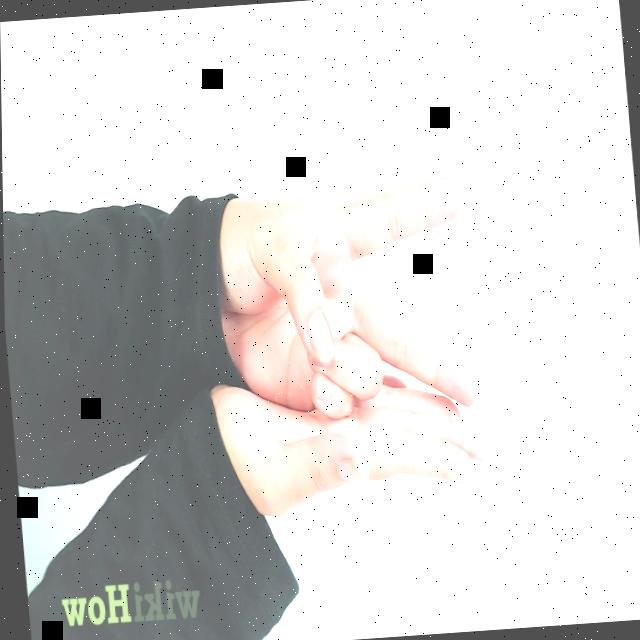Scissors: (214, 168, 480, 427)
